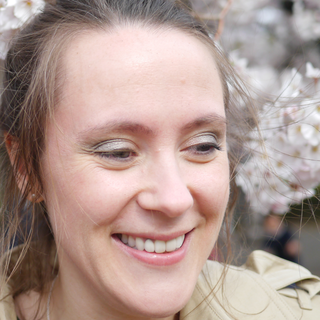eye: (87, 142, 143, 166), (180, 134, 226, 161)
